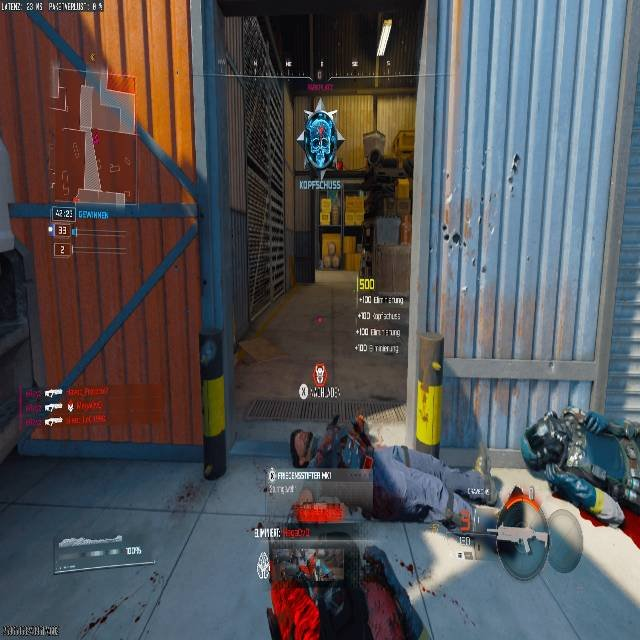head: (521, 411, 568, 471), (306, 94, 324, 115)
player: (359, 149, 406, 274), (289, 413, 377, 467), (301, 97, 344, 178)
